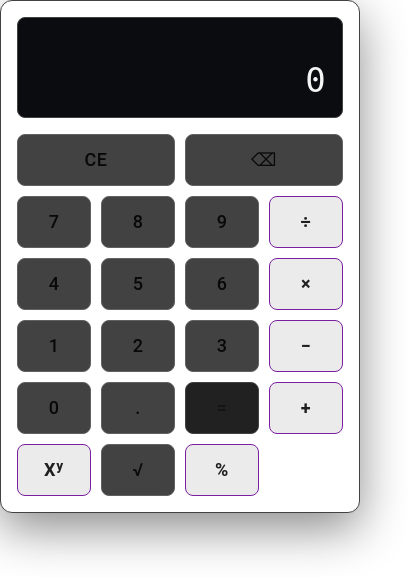
Scenario: Calculator › removes the last digit with backspace
Click the button "1" at (54,346), box [17,320,91,372]
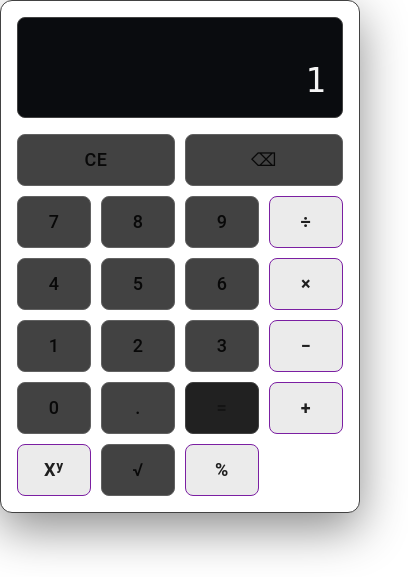
Click the button "2" at (138,346), box [101,320,175,372]
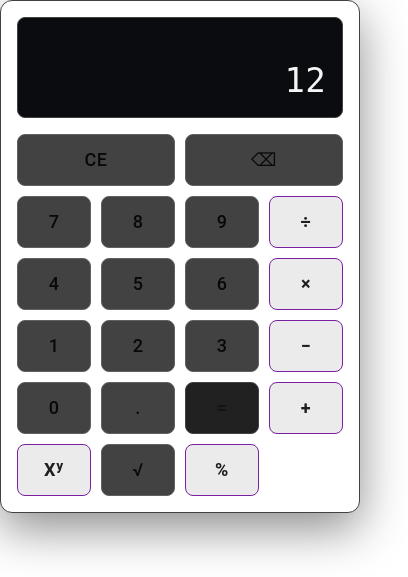
Click the button named "Backspace" at (264,160), box [185,134,343,186]
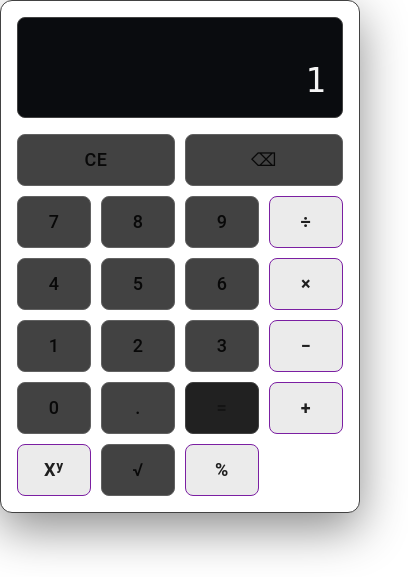
Expected: the heading with test id "calculator-display" reads "1", [305,60,326,100]
